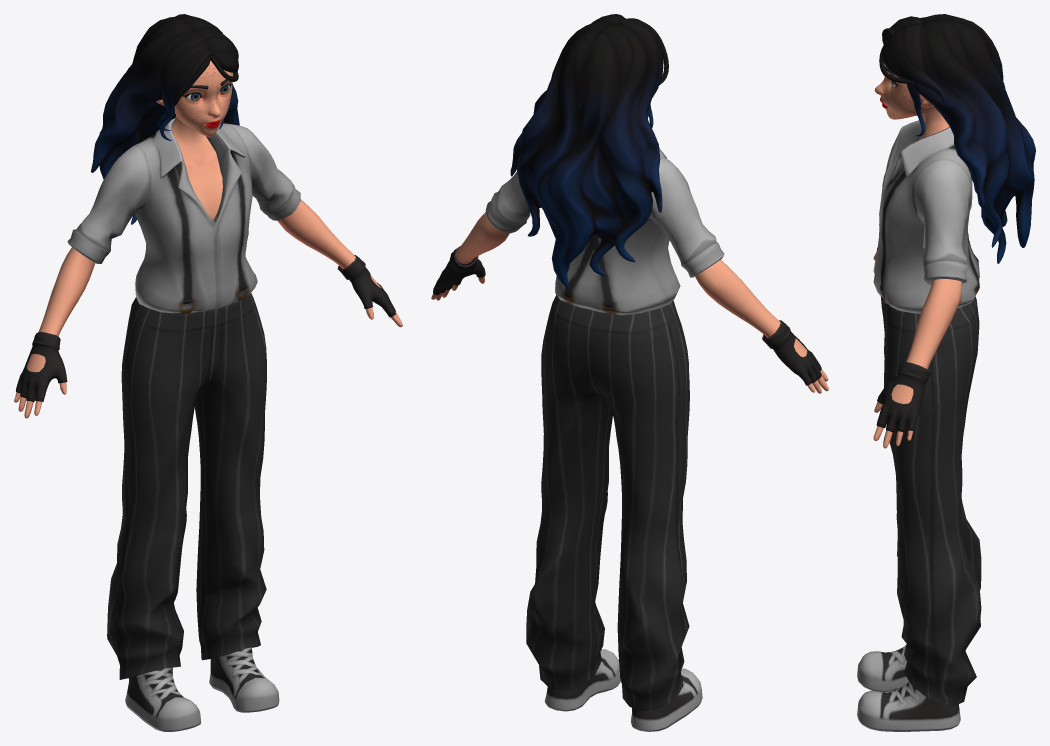
File: StaffBlue_Mesh.obj
The picture shows the model from 3 angles, left to right: view 1: azimuth 30°, elevation 25°; view 2: azimuth 150°, elevation 25°; view 3: azimuth 270°, elevation 25°; orthographic projection. The views are drawn at different scales.
Visible parts, largest first — view 1: StaffBlue_Mesh_0; view 2: StaffBlue_Mesh_0; view 3: StaffBlue_Mesh_0.
Part boxes in pixels (x1,y1,x2,y2): StaffBlue_Mesh_0: [14, 14, 402, 731]; StaffBlue_Mesh_0: [431, 14, 828, 731]; StaffBlue_Mesh_0: [857, 14, 1035, 731].
Size of the model in its own units: 1.06 by 1.8 by 0.4266.
Materials: 1 (1 with a texture image).
